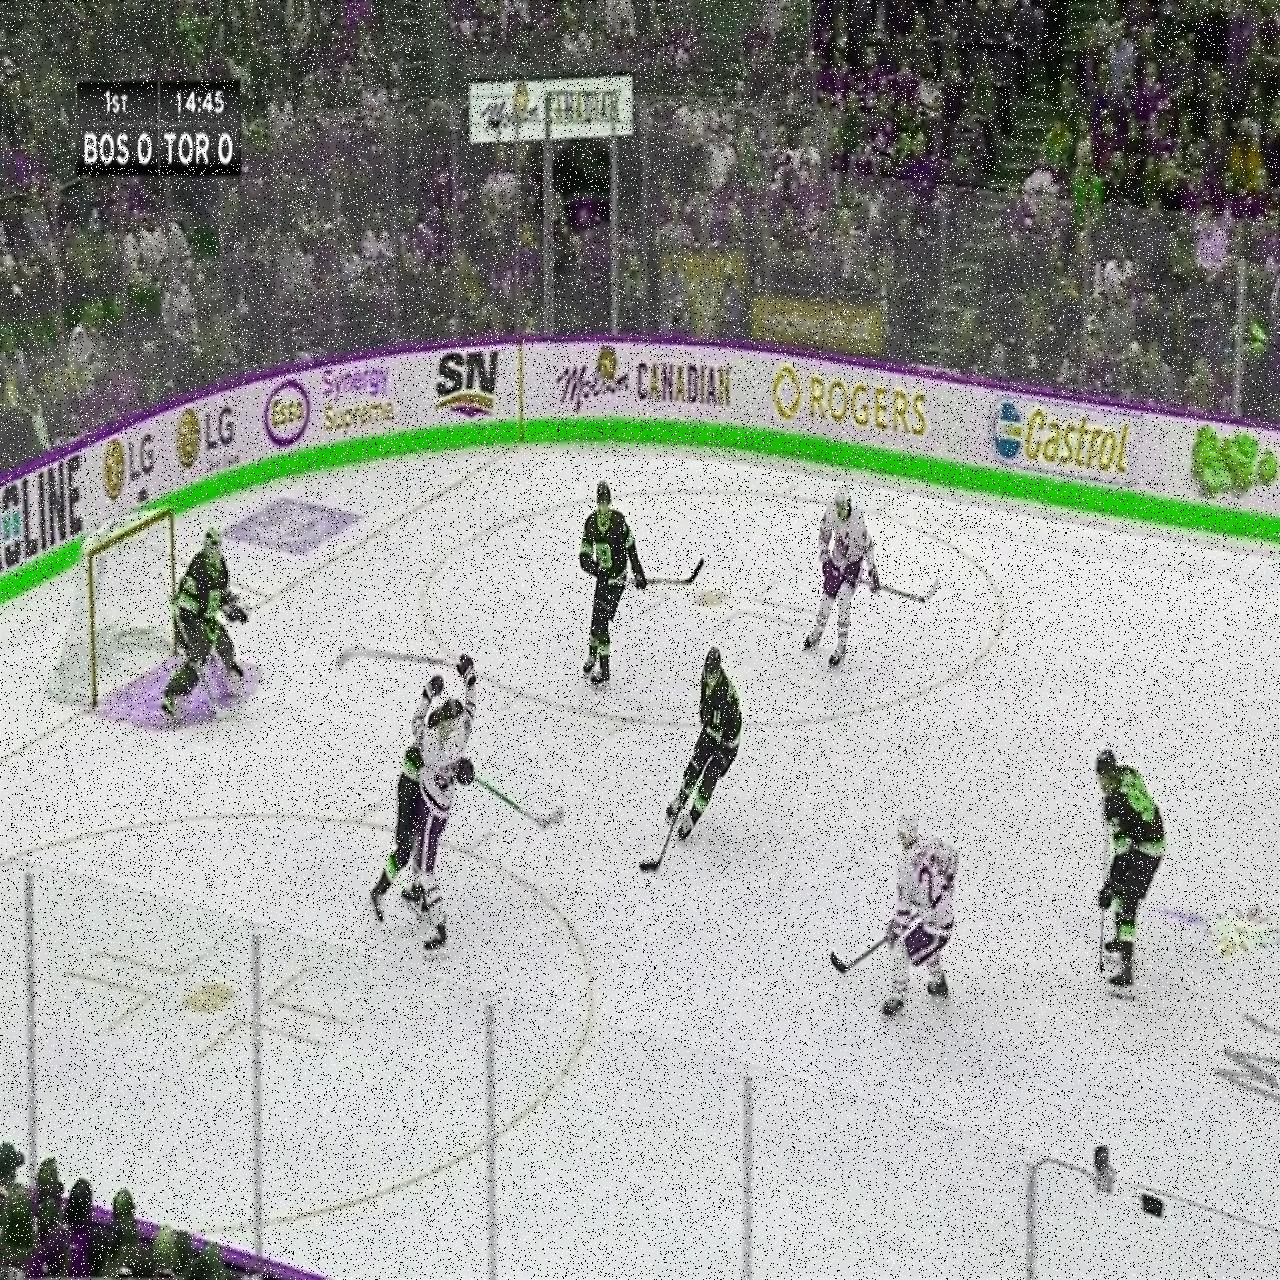Ad: (1138, 828, 1278, 1121), (552, 329, 737, 436), (987, 389, 1145, 505), (771, 353, 931, 462), (1176, 413, 1280, 556), (0, 434, 84, 602), (264, 362, 400, 457), (219, 493, 375, 561), (171, 369, 238, 501), (429, 341, 504, 434), (103, 399, 157, 515)
